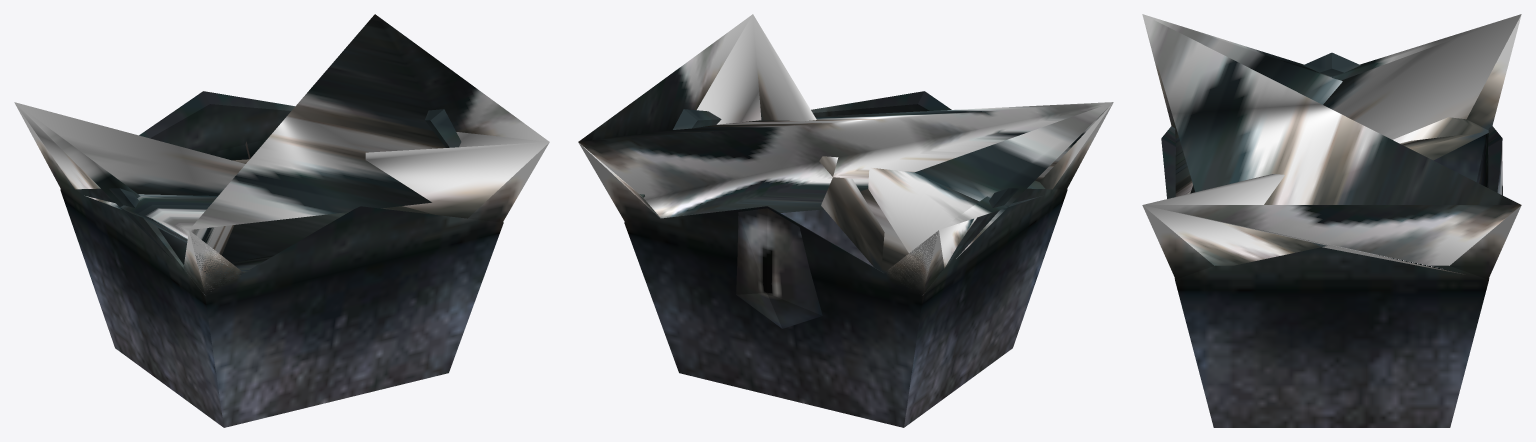
Rendered from stst81.dae.
3 renders of one model, left to right at view 1: azimuth 30°, elevation 25°; view 2: azimuth 150°, elevation 25°; view 3: azimuth 270°, elevation 25°, orthographic. The views are drawn at different scales.
Visible parts, largest first — view 1: bd, cap; view 2: bd, cap; view 3: cap, bd.
Part boxes in pixels (box(x1,y1,x2,y2)): bd: box(15, 91, 549, 427); cap: box(14, 14, 549, 291); bd: box(578, 91, 1113, 427); cap: box(578, 14, 1113, 290); cap: box(1142, 14, 1521, 274); bd: box(1142, 14, 1521, 427).
Bounding box in the file's own units: 1.22 × 1.02 × 0.7686.
1 material, 1 textured.
